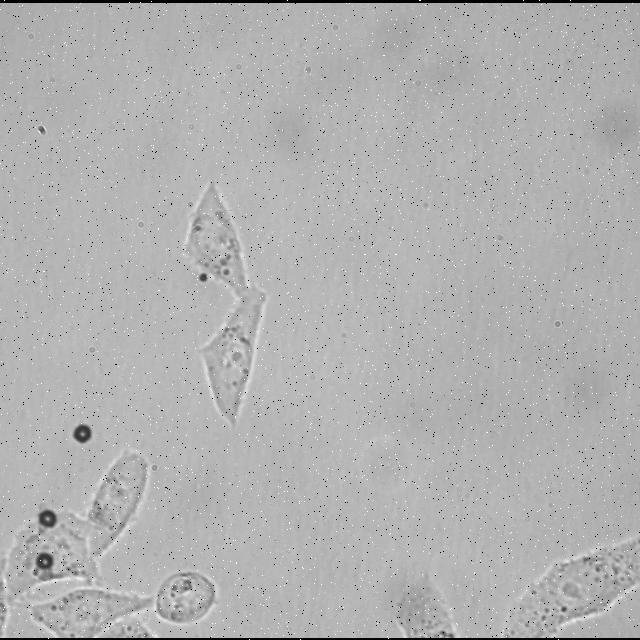microbeads: (70, 422, 92, 446), (38, 548, 56, 570), (40, 508, 56, 524)
